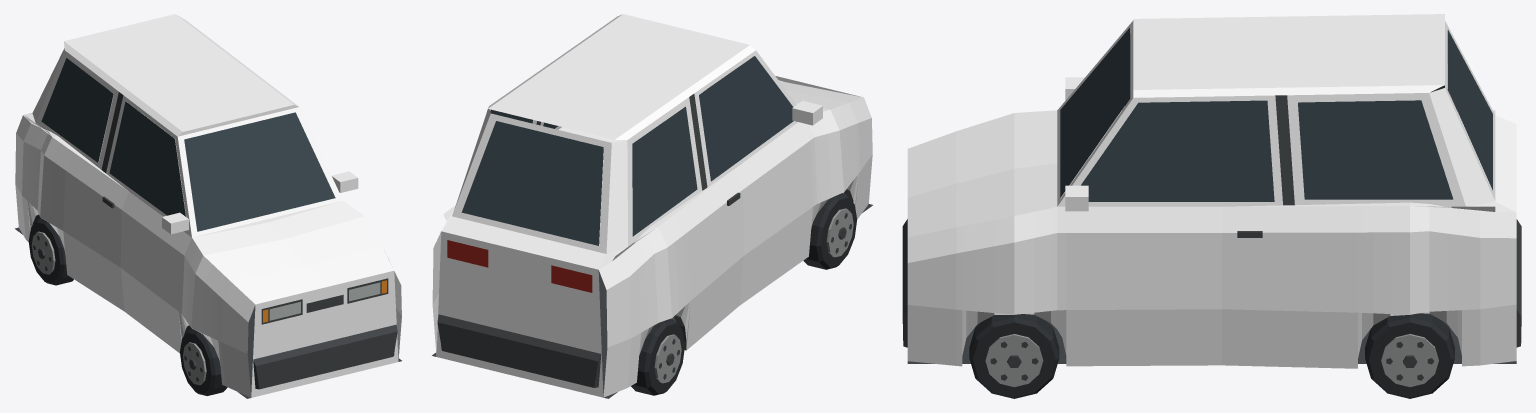
The model's file is ottavo_rondine.glb.
3 renders of one model, left to right at view 1: azimuth 30°, elevation 25°; view 2: azimuth 150°, elevation 25°; view 3: azimuth 270°, elevation 25°, orthographic. The views are drawn at different scales.
Visible parts, largest first — view 1: ottavo_rondine; view 2: ottavo_rondine; view 3: ottavo_rondine.
Part boxes in pixels (<box>): ottavo_rondine: <box>15,14,401,398</box>; ottavo_rondine: <box>432,14,872,398</box>; ottavo_rondine: <box>902,14,1521,398</box>.
Size of the model in its own units: 1.45 by 1.66 by 3.16.
8 materials, 1 textured.
